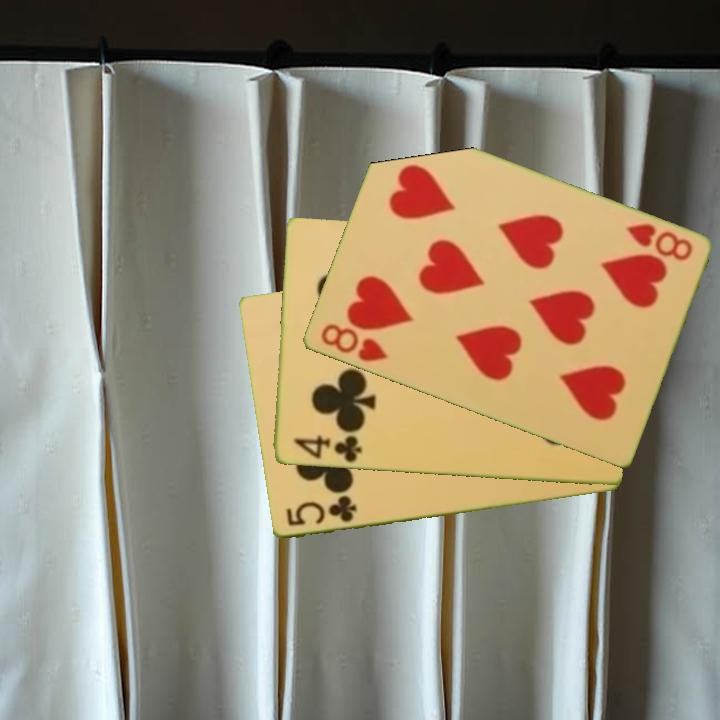4c: (290, 432, 365, 466)
5c: (282, 492, 360, 530)
8h: (316, 320, 390, 365), (622, 220, 695, 264)
